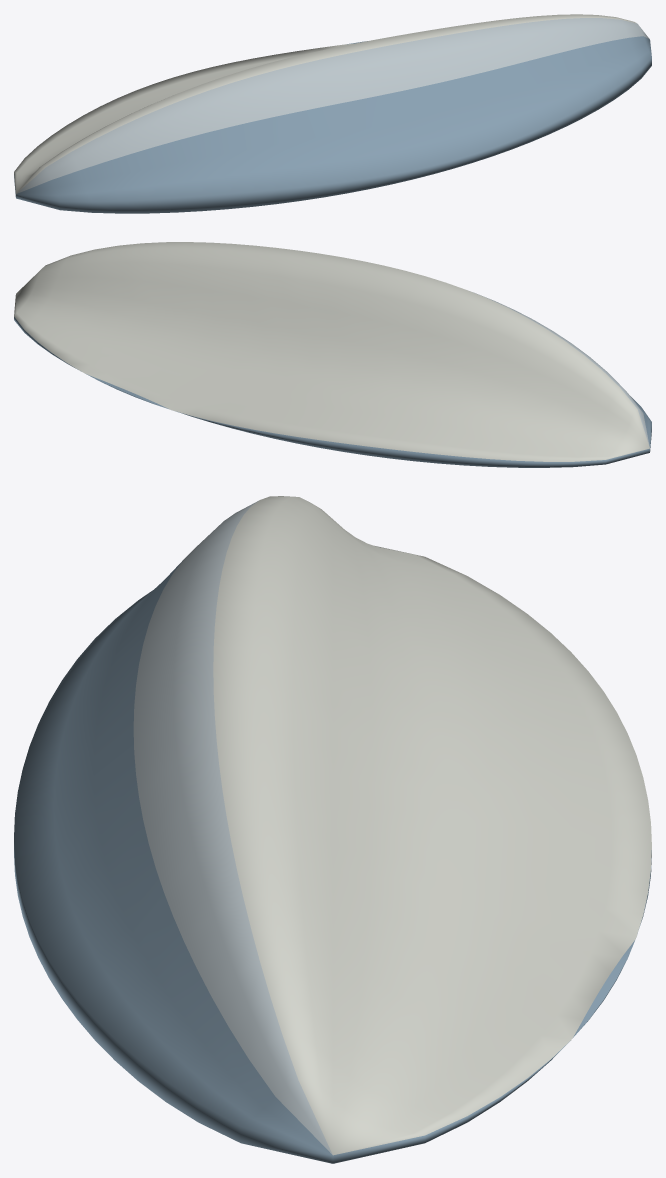
Rendered from fw_snow_wind_drift.hi.glb.
3 views of the same model, one above another, from view 1: azimuth 30°, elevation 25°; view 2: azimuth 150°, elevation 25°; view 3: azimuth 270°, elevation 25° (orthographic). The views are drawn at different scales.
Parts seen in each view (by area): view 1: body; view 2: body; view 3: body.
Part boxes in pixels (x1=…): body: x1=14, y1=14, x2=651, y2=213; body: x1=14, y1=242, x2=651, y2=467; body: x1=14, y1=496, x2=651, y2=1163.
Bounding box in the file's own units: 3.9 × 0.5543 × 1.7.
